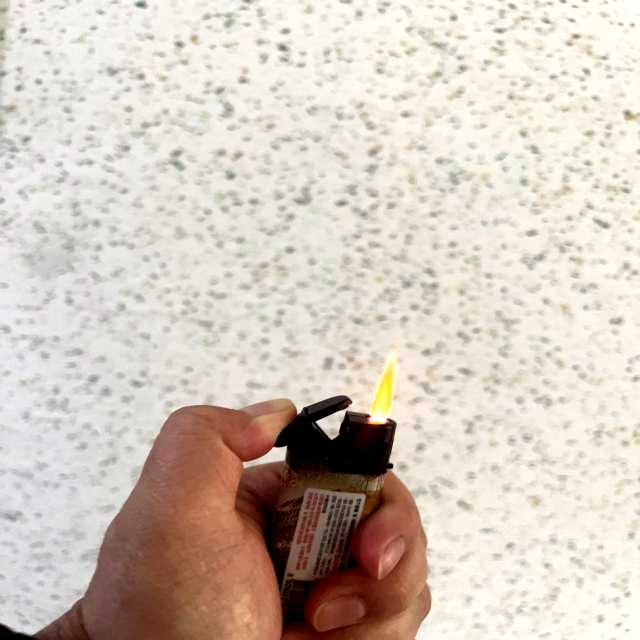fire: (368, 349, 400, 415)
